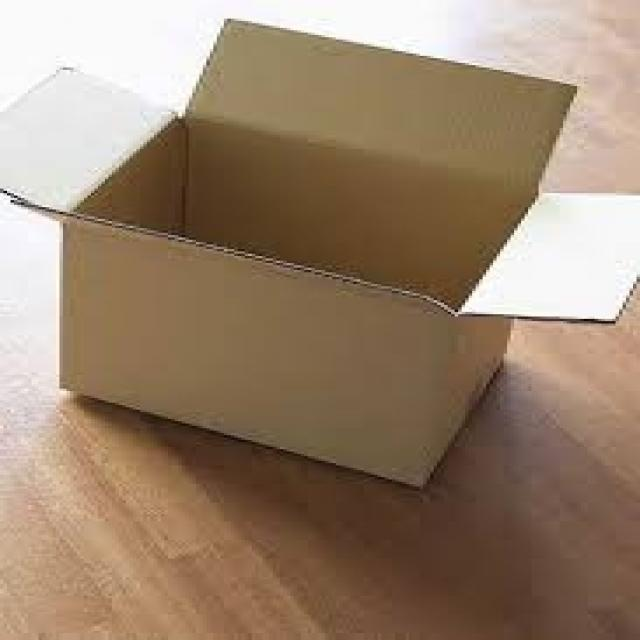cardboard paper: (1, 17, 640, 491)
